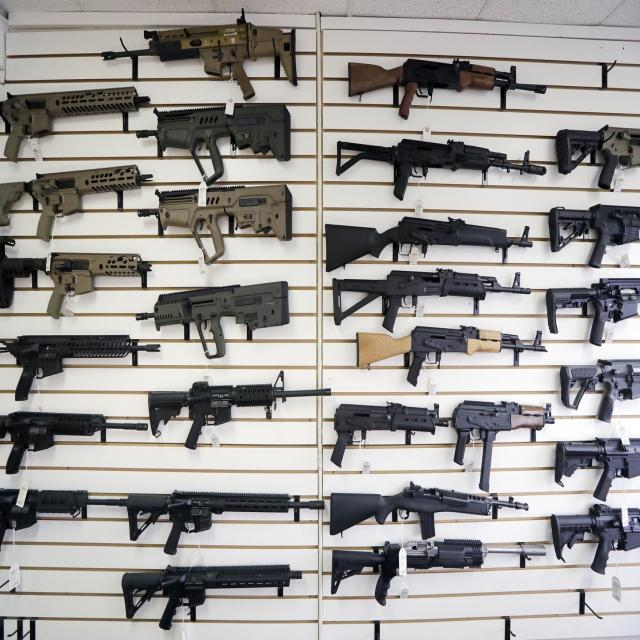rifle: (127, 277, 297, 373), (329, 130, 550, 201), (144, 376, 341, 454), (114, 13, 312, 86), (334, 545, 546, 612), (117, 563, 307, 636), (358, 325, 551, 395), (322, 212, 541, 271), (148, 98, 303, 178), (151, 182, 299, 263), (329, 488, 546, 543), (3, 78, 150, 157), (324, 277, 533, 330), (129, 492, 326, 548), (3, 168, 149, 242), (344, 57, 560, 107), (1, 250, 159, 318), (549, 501, 640, 597), (1, 334, 161, 388), (1, 492, 127, 556), (1, 413, 150, 465), (547, 278, 640, 353), (561, 358, 640, 441), (556, 117, 640, 191), (555, 203, 640, 269), (556, 433, 640, 499)
smg: (443, 403, 562, 474), (329, 400, 443, 467)
